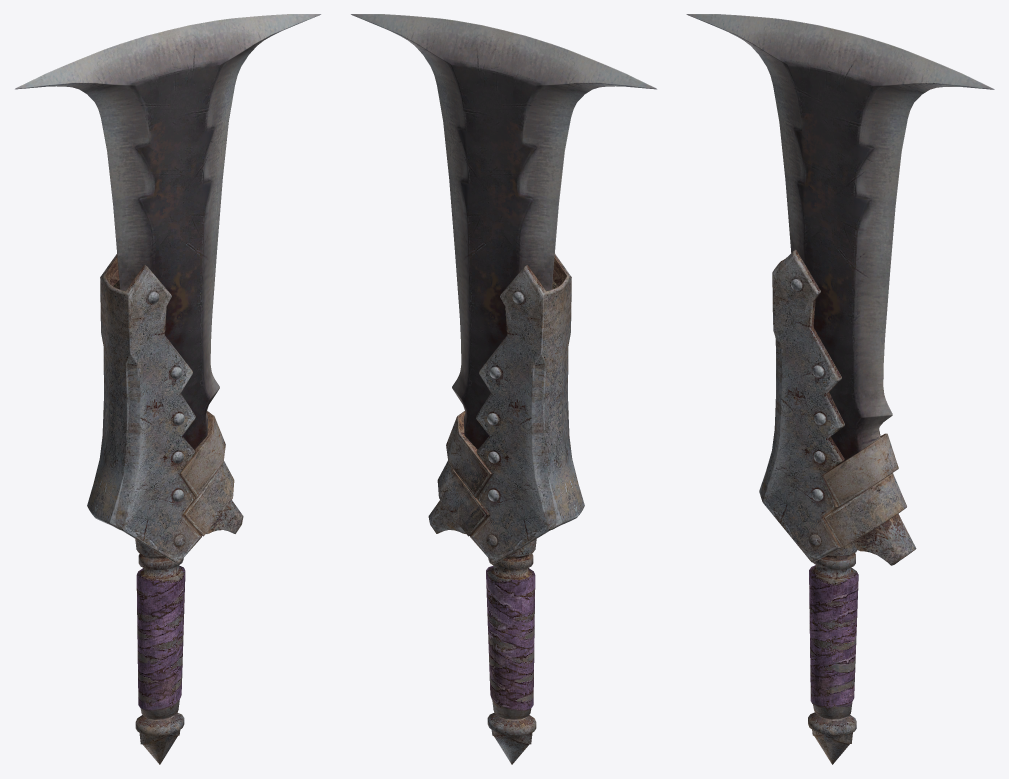
Rendered from bs_one002.obj.
3 views of the same model, side by side, from view 1: azimuth 30°, elevation 25°; view 2: azimuth 150°, elevation 25°; view 3: azimuth 330°, elevation 25° (orthographic).
Visible parts, largest first — view 1: bs_one002_000_LOD_1; view 2: bs_one002_000_LOD_1; view 3: bs_one002_000_LOD_1.
Boxes of the visible parts, <box> form: bs_one002_000_LOD_1: <box>15,14,320,764</box>; bs_one002_000_LOD_1: <box>351,14,656,764</box>; bs_one002_000_LOD_1: <box>686,14,994,764</box>.
Bounding box in the file's own units: 45.93 × 105 × 10.45.
